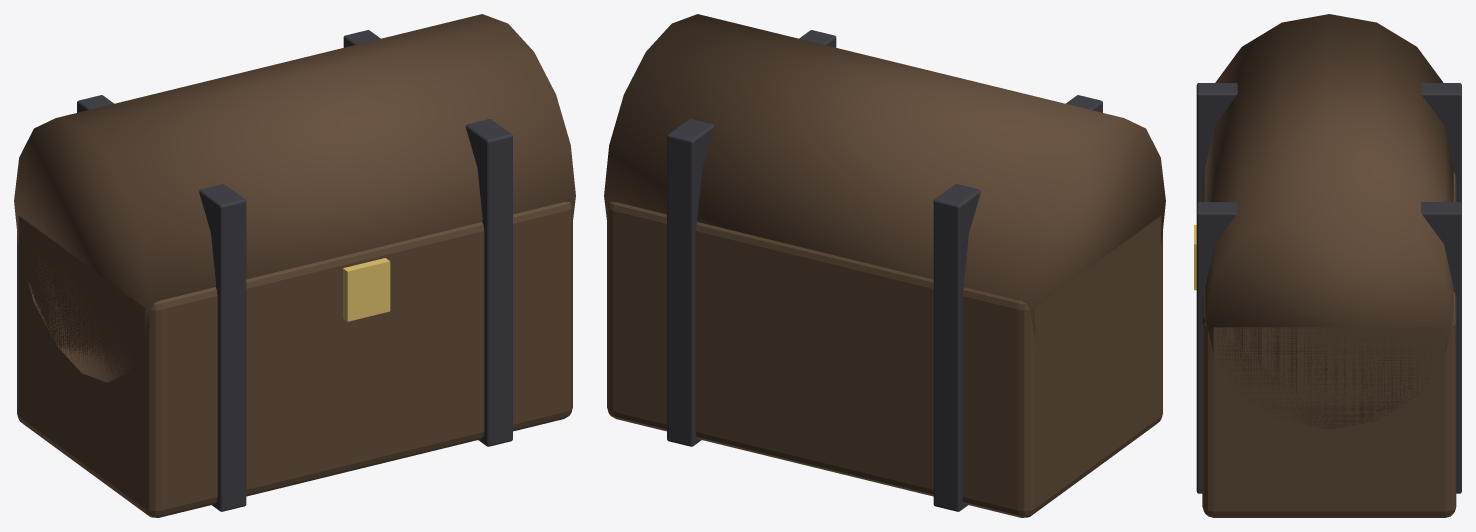
The model's file is academy_misc_student_trunk.glb.
The picture shows the model from 3 angles, left to right: view 1: azimuth 30°, elevation 25°; view 2: azimuth 150°, elevation 25°; view 3: azimuth 270°, elevation 25°; orthographic projection. The views are drawn at different scales.
Parts seen in each view (by area): view 1: GD_academy_misc_student_trunk__m0, GD_academy_misc_student_trunk__m1, GD_academy_misc_student_trunk__m2; view 2: GD_academy_misc_student_trunk__m0, GD_academy_misc_student_trunk__m1; view 3: GD_academy_misc_student_trunk__m0, GD_academy_misc_student_trunk__m1.
Boxes of the visible parts, x1,y1,x2,y2 form: GD_academy_misc_student_trunk__m0: [14, 14, 575, 517]; GD_academy_misc_student_trunk__m1: [77, 30, 512, 511]; GD_academy_misc_student_trunk__m2: [343, 258, 390, 321]; GD_academy_misc_student_trunk__m0: [604, 14, 1165, 517]; GD_academy_misc_student_trunk__m1: [667, 30, 1102, 511]; GD_academy_misc_student_trunk__m0: [1202, 14, 1456, 517]; GD_academy_misc_student_trunk__m1: [1196, 83, 1461, 493].
Bounding box in the file's own units: 0.8 × 0.625 × 0.475.
